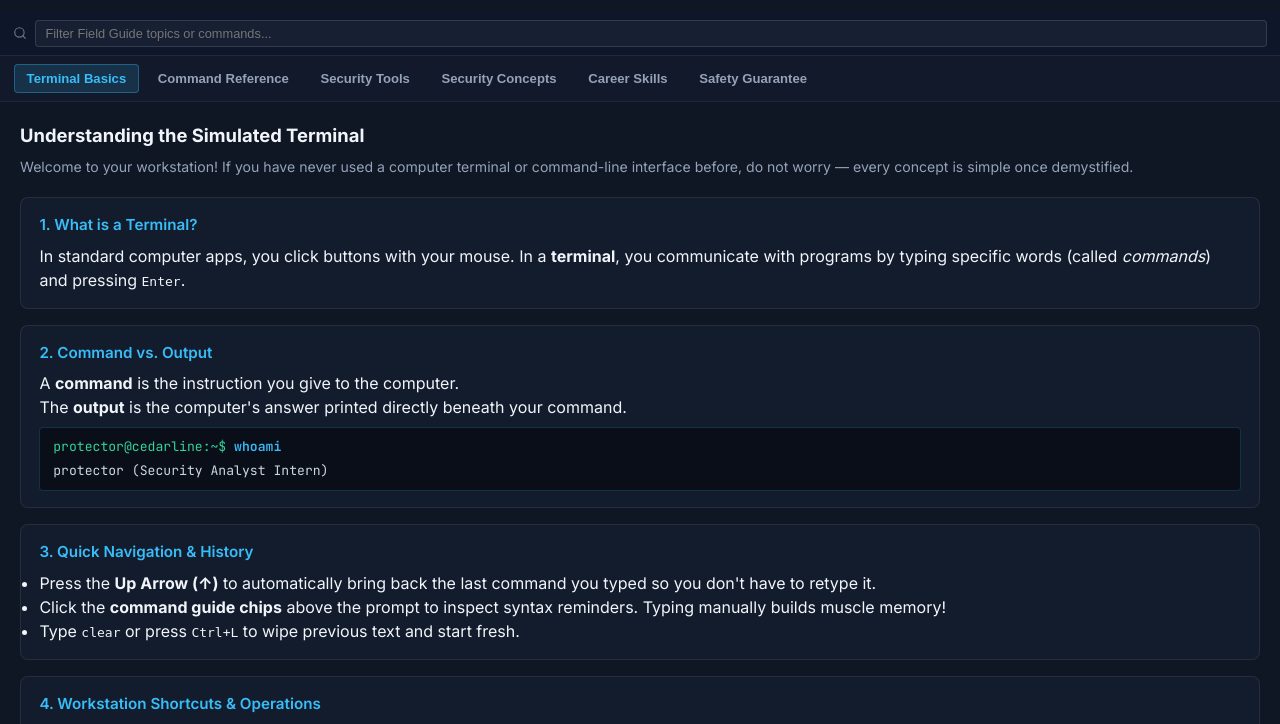
it: FieldGuideApp Component › switches to Career Skills tab and displays career progression principles
Click the tab with test id "guide-tab-career": (628, 78) [575, 64, 681, 93]
(page scrolled)
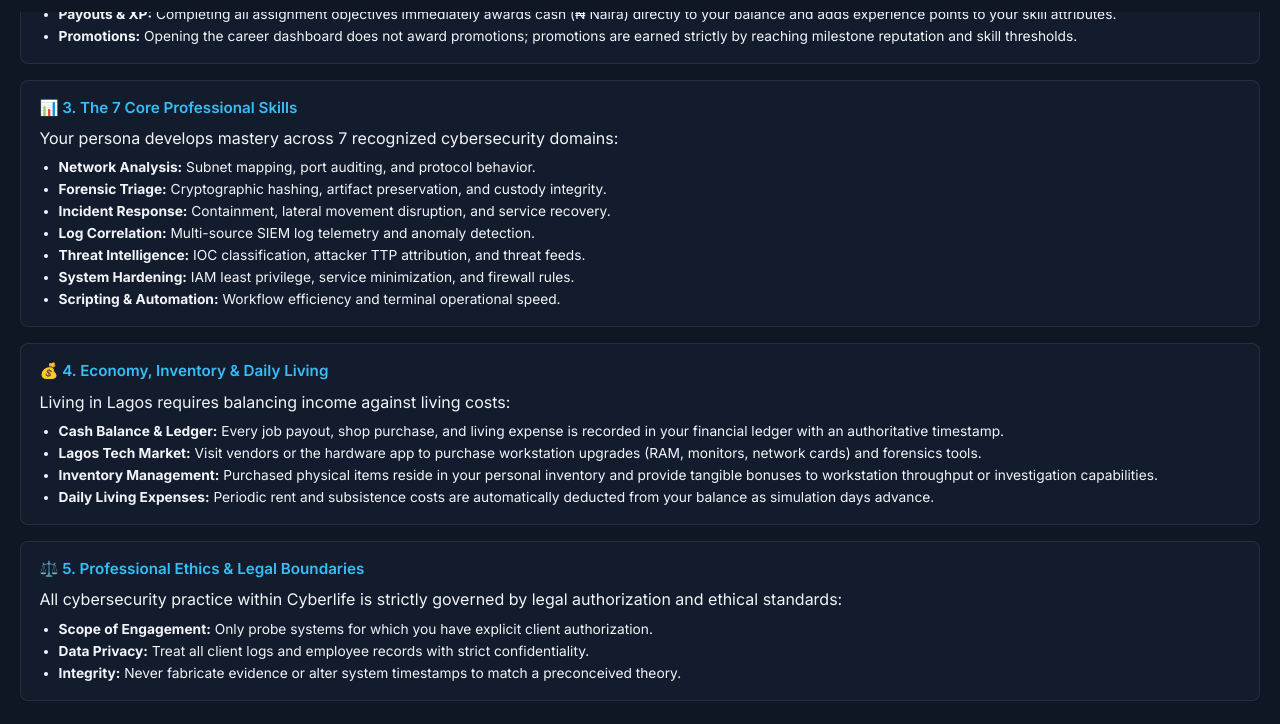
Now the element with test id "guide-section-career" is shown
Now the heading "📊 3. The 7 Core Professional Skills" is shown, box [39, 98, 297, 117]
Now the heading "💰 4. Economy, Inventory & Daily Living" is shown, box [39, 361, 328, 380]
